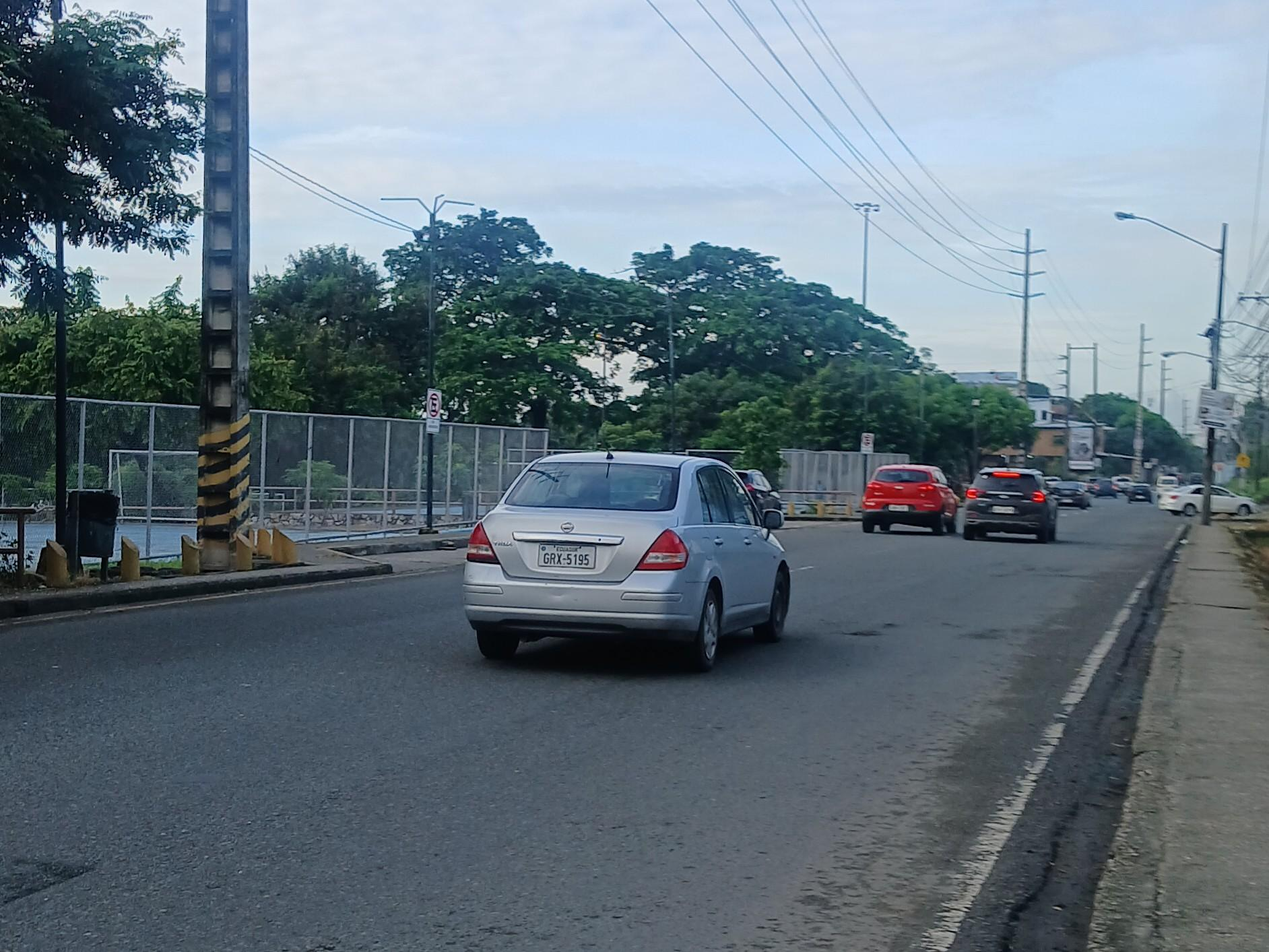license_plate: (539, 544, 595, 569), (991, 505, 1016, 514)
